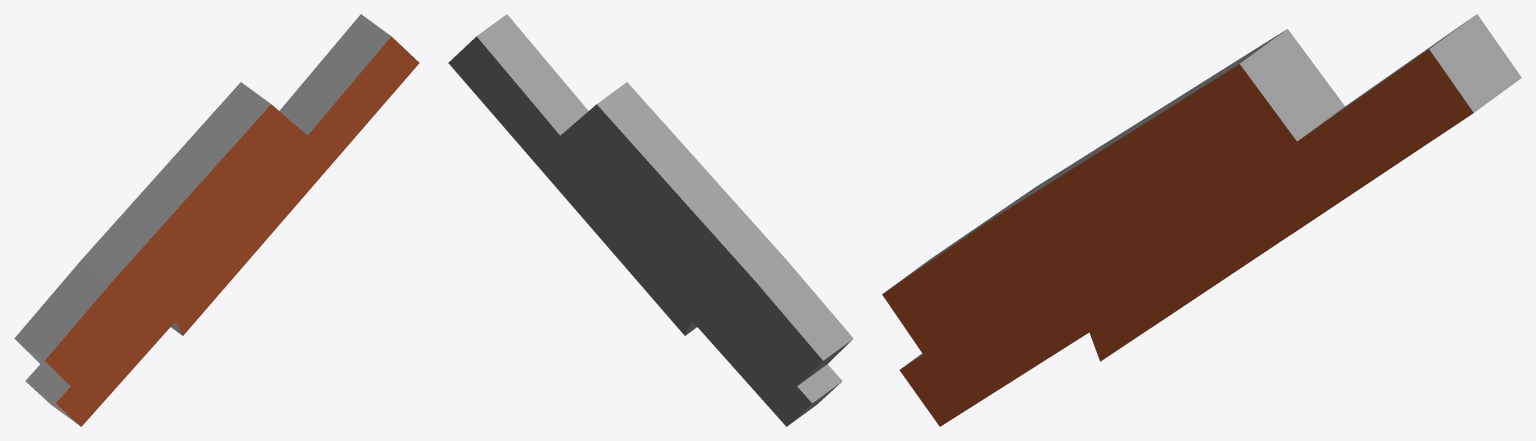
Rendered from construction_4330_assumed_A_Casa_h6m.obj.
The picture shows the model from 3 angles, left to right: view 1: azimuth 30°, elevation 25°; view 2: azimuth 150°, elevation 25°; view 3: azimuth 330°, elevation 25°; orthographic projection. The views are drawn at different scales.
Parts seen in each view (by area): view 1: construction_4330_assumed_A_Casa; view 2: construction_4330_assumed_A_Casa; view 3: construction_4330_assumed_A_Casa.
Part boxes in pixels (x1,y1,x2,y2): construction_4330_assumed_A_Casa: (14, 14, 419, 426); construction_4330_assumed_A_Casa: (448, 14, 853, 426); construction_4330_assumed_A_Casa: (882, 14, 1521, 426).
Bounding box in the file's own units: 42.66 × 34.25 × 6.
